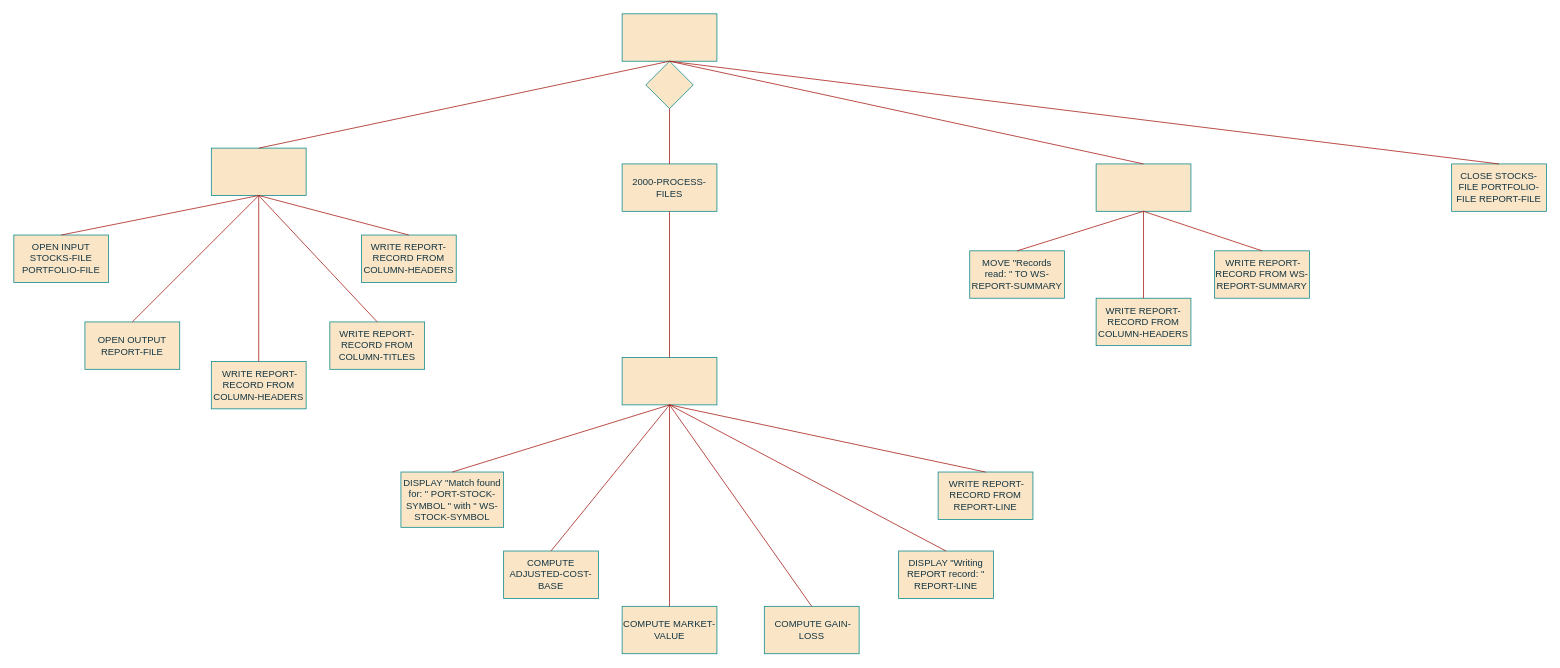
This 1560x668 diagram has some shape labels left out. Each missing label, with the centre of its shape:
1000-INITIALIZATION: (x=258, y=171)
2100-PROCESS-RECORD: (x=669, y=381)
3000-FINALIZATION.: (x=1143, y=187)
InvestmentReport: (x=669, y=37)
